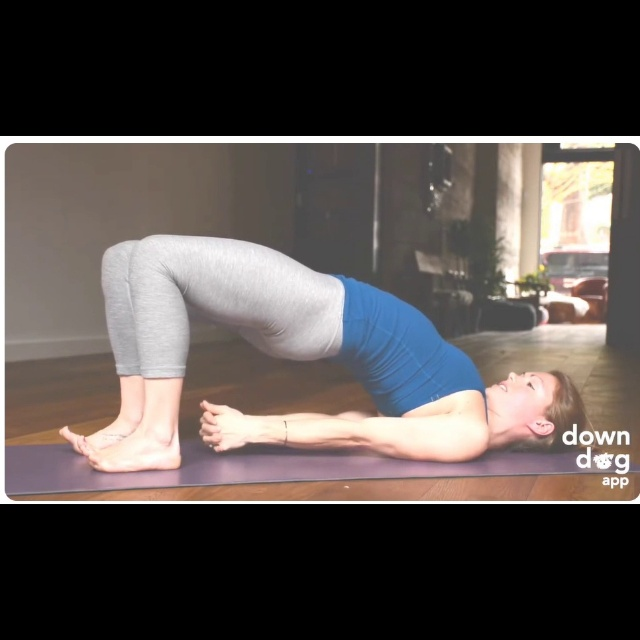Bridge_Pose: (55, 227, 590, 474)
